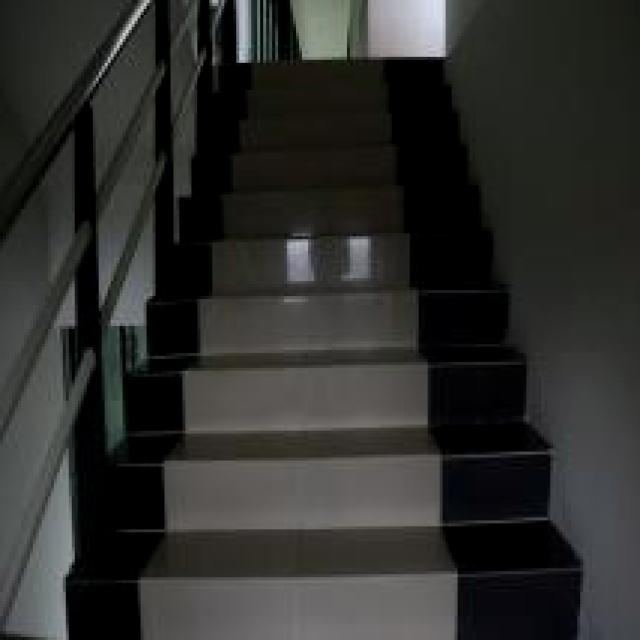upstair: (178, 154, 471, 587)
